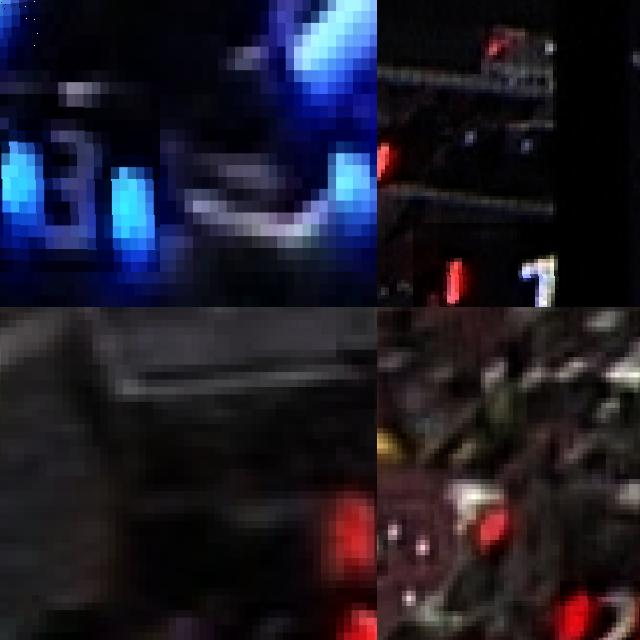B3: (0, 94, 159, 272)
R1: (413, 222, 581, 307)
R2: (559, 580, 640, 640)
